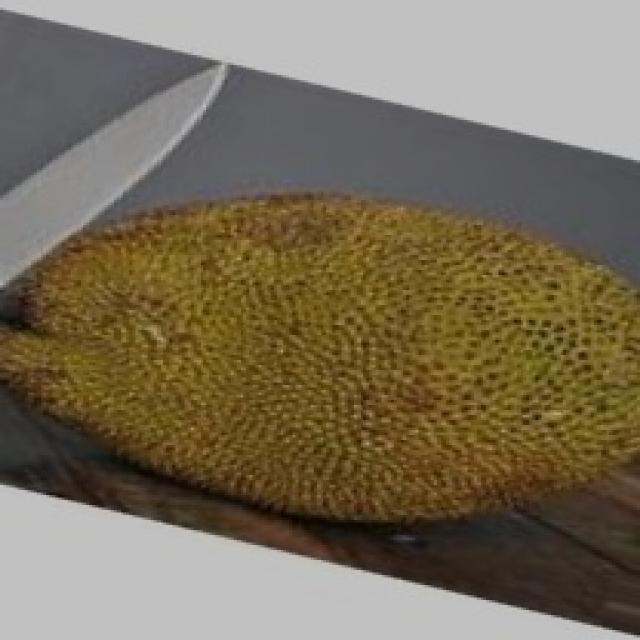Fruit: (240, 130, 640, 580), (0, 148, 397, 560)
